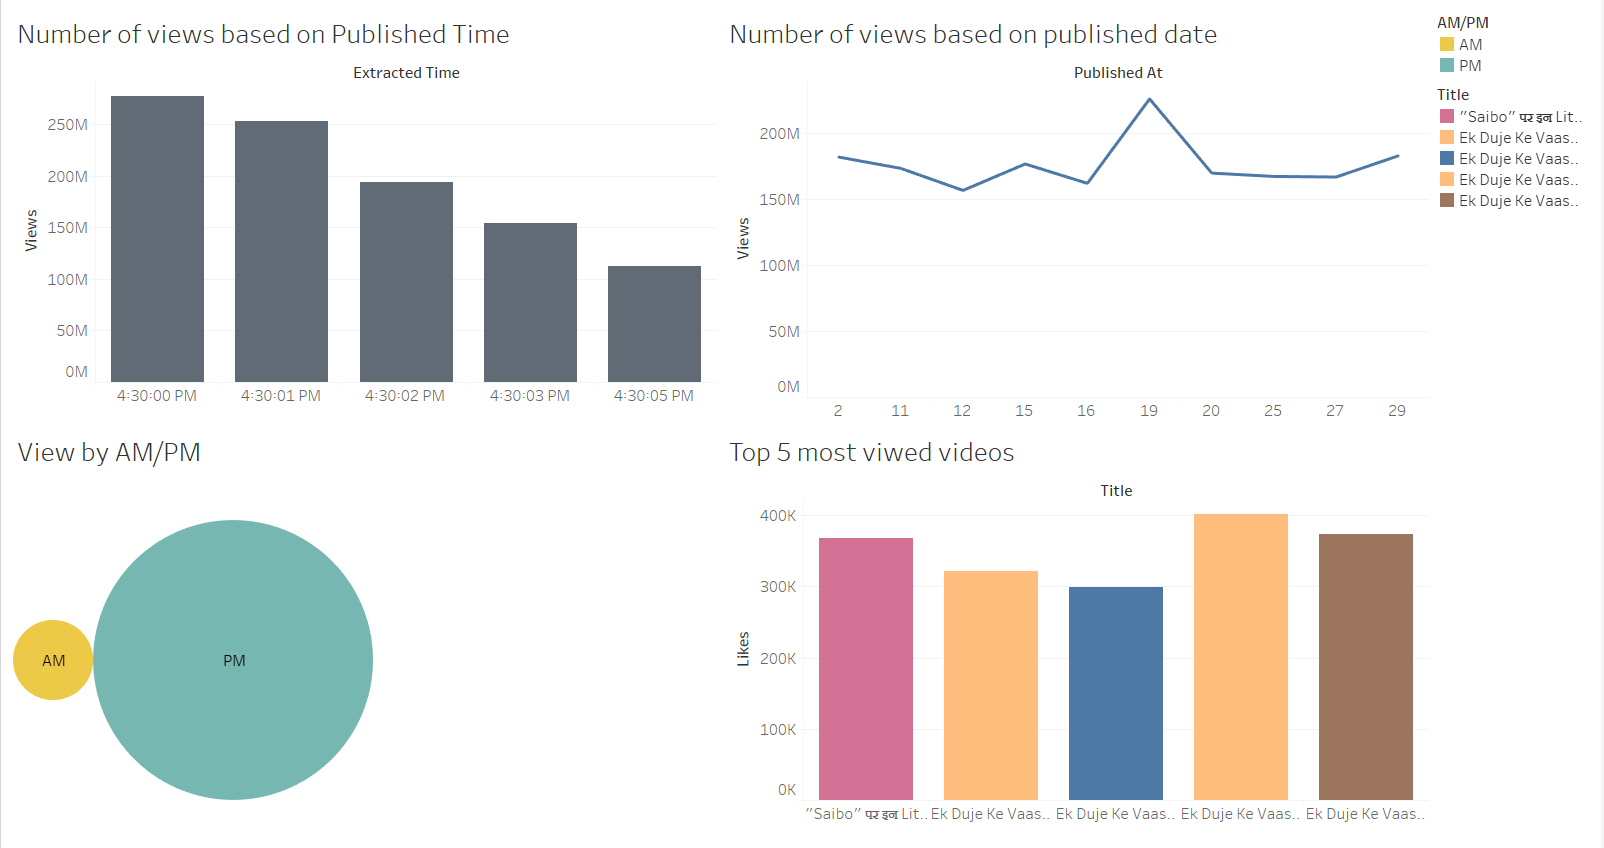

Layout of this report page (visuals, bound fields, positions):
{"tool":"tableau","page":{"name":"Dashboard 2","canvas":[1000,1000],"units":"permille","ordinal":1},"visuals":[{"type":"worksheet","title":"Number of views based on Published Time","mark":"Automatic","rows":["Views"],"cols":["Calculation_89227594521239555"],"box":[5,9.4,445,490.6]},{"type":"worksheet","title":"Number of views based on published date","mark":"Automatic","rows":["Views"],"cols":["Published At"],"box":[450,9.4,445,490.6]},{"type":"legend","title":"View by AM/PM","param":"[federated.1l2pdwz05lf8v91f01bq11f106u6].[none:Calculation_89227594533597188:nk]","box":[895,9.4,100,84.5]},{"type":"legend","title":"Top 5 most viwed videos","param":"[federated.1l2pdwz05lf8v91f01bq11f106u6].[none:Title:nk]","box":[895,93.9,100,158.5]},{"type":"worksheet","title":"View by AM/PM","mark":"Circle","box":[5,500,445,490.6]},{"type":"worksheet","title":"Top 5 most viwed videos","mark":"Automatic","rows":["Likes"],"cols":["Title"],"box":[450,500,445,490.6]}]}

Visuals, with their boxes on the dashboard's canvas, which has no fixed pixel size, in thousandths of its width and height (x1, y1, x2, y2). These are canvas units, not pixel positions in the 1604x848 screenshot, which may show the page scaled, cropped or inside an application window:
"Number of views based on Published Time" worksheet: [left=5, top=9, right=450, bottom=500]
"Number of views based on published date" worksheet: [left=450, top=9, right=895, bottom=500]
"View by AM/PM" legend: [left=895, top=9, right=995, bottom=94]
"Top 5 most viwed videos" legend: [left=895, top=94, right=995, bottom=252]
"View by AM/PM" worksheet (Circle marks): [left=5, top=500, right=450, bottom=991]
"Top 5 most viwed videos" worksheet: [left=450, top=500, right=895, bottom=991]
